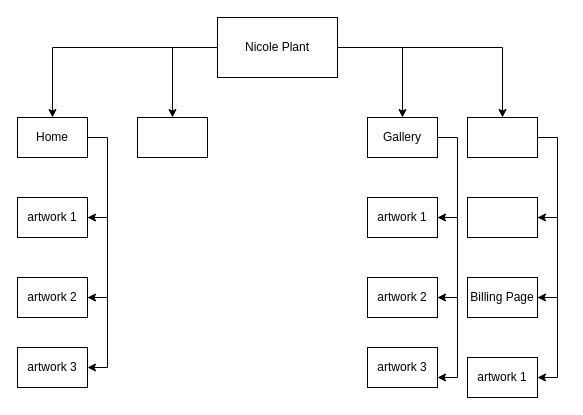
Image size: 583x415. Some labels were removed from this diagram. Here are the shapes that lost their labels. From the top down, the centre of each, then its label:
At pixel 172 137: "About".
At pixel 502 137: "Shop".
At pixel 502 217: "Continue Shopping".
